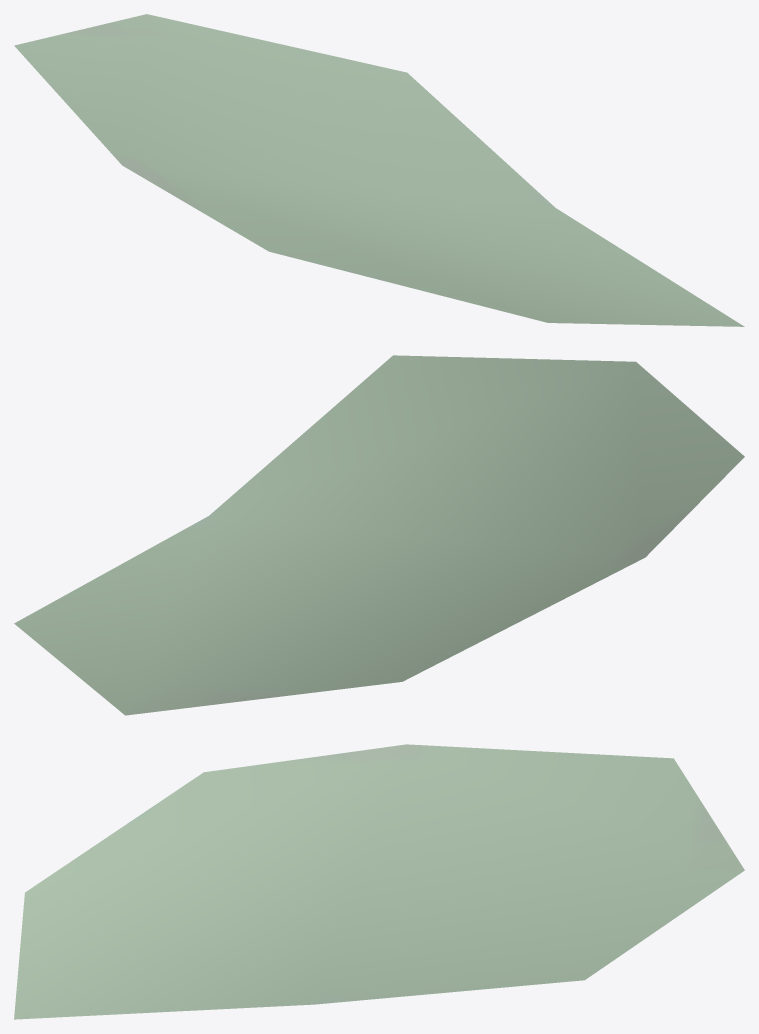
Rendered from TROLLHOLE02_HOLECAP108.fbx.
3 views of the same model, one above another, from view 1: azimuth 30°, elevation 25°; view 2: azimuth 150°, elevation 25°; view 3: azimuth 270°, elevation 25° (orthographic). The views are drawn at different scales.
Visible parts, largest first — view 1: TROLLHOLE02_HOLECAP108; view 2: TROLLHOLE02_HOLECAP108; view 3: TROLLHOLE02_HOLECAP108.
Part boxes in pixels (x1,y1,x2,y2): TROLLHOLE02_HOLECAP108: [14, 14, 744, 326]; TROLLHOLE02_HOLECAP108: [14, 355, 744, 715]; TROLLHOLE02_HOLECAP108: [14, 744, 744, 1019].
Bounding box in the file's own units: 11809 × 2950 × 20131.
1 material, 1 textured.
